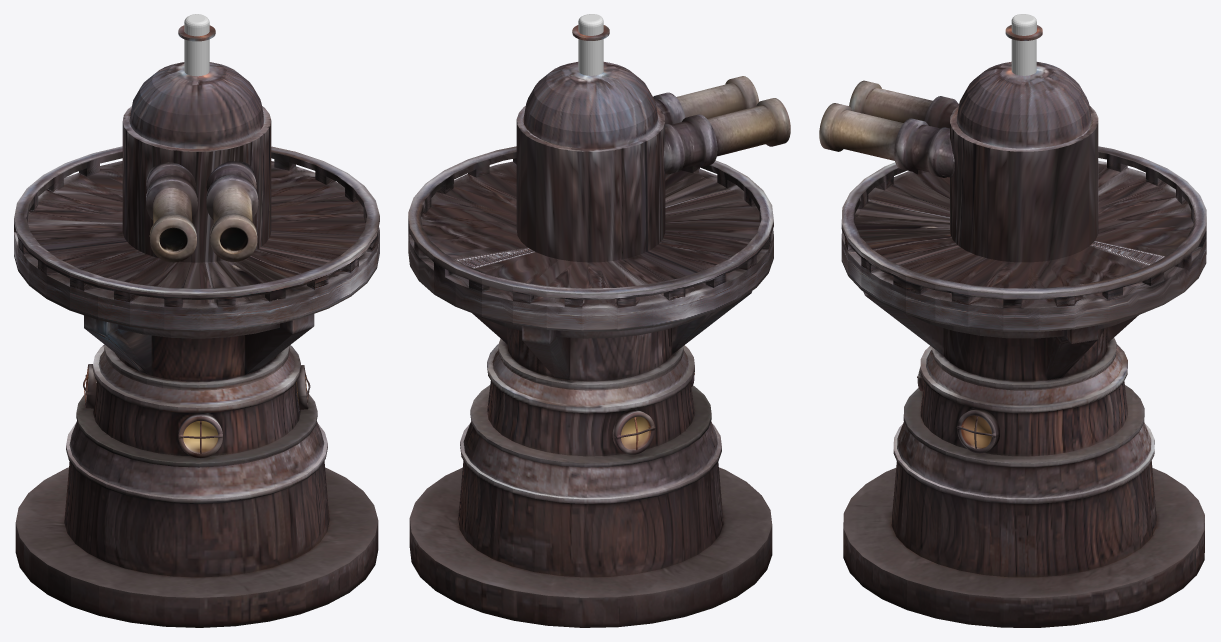
The model's file is Cannon Tower Lv 2.fbx.
3 views of the same model, side by side, from view 1: azimuth 30°, elevation 25°; view 2: azimuth 150°, elevation 25°; view 3: azimuth 270°, elevation 25° (orthographic).
Visible parts, largest first — view 1: Cannon Tower Lv 2; view 2: Cannon Tower Lv 2; view 3: Cannon Tower Lv 2.
Boxes of the visible parts, <box> form: Cannon Tower Lv 2: <box>14,14,379,627</box>; Cannon Tower Lv 2: <box>408,14,790,627</box>; Cannon Tower Lv 2: <box>819,14,1206,627</box>.
Size of the model in its own units: 6.1 by 9.85 by 6.48.
6 materials, 5 textured.
